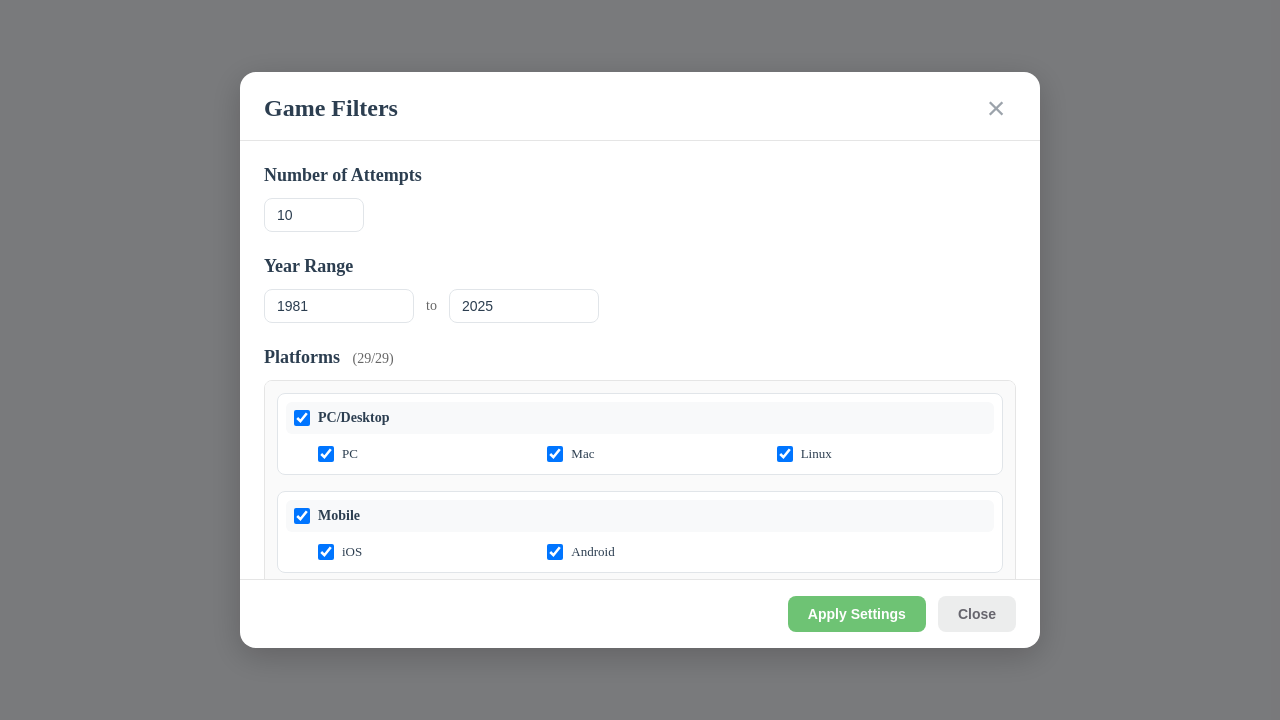
Test: Settings.svelte › attempts input clamps below 1 to 1 and above 999 to 999
Replace the text in the number field with class "attempts-input" with "0" at x=314, y=215, box [264,198,364,232]
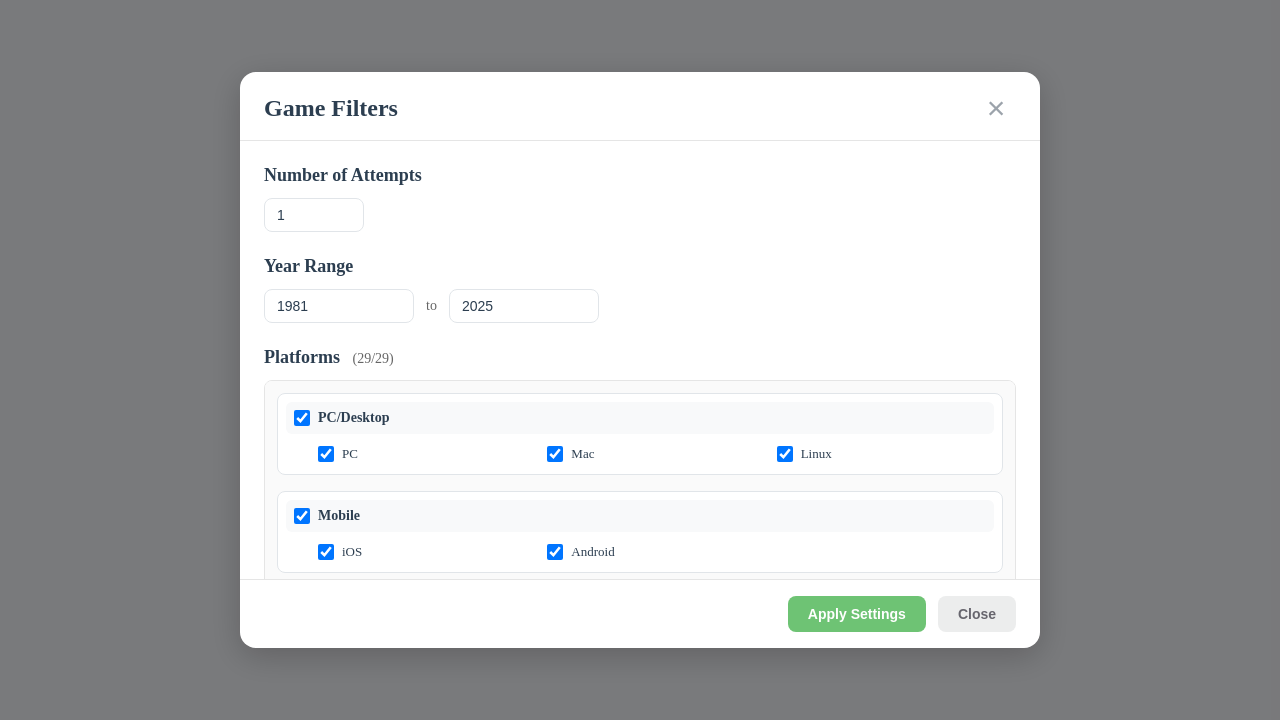
Expected: the number field with class "attempts-input" holds "1"
Replace the text in the number field with class "attempts-input" with "1000" at x=314, y=215, box [264,198,364,232]
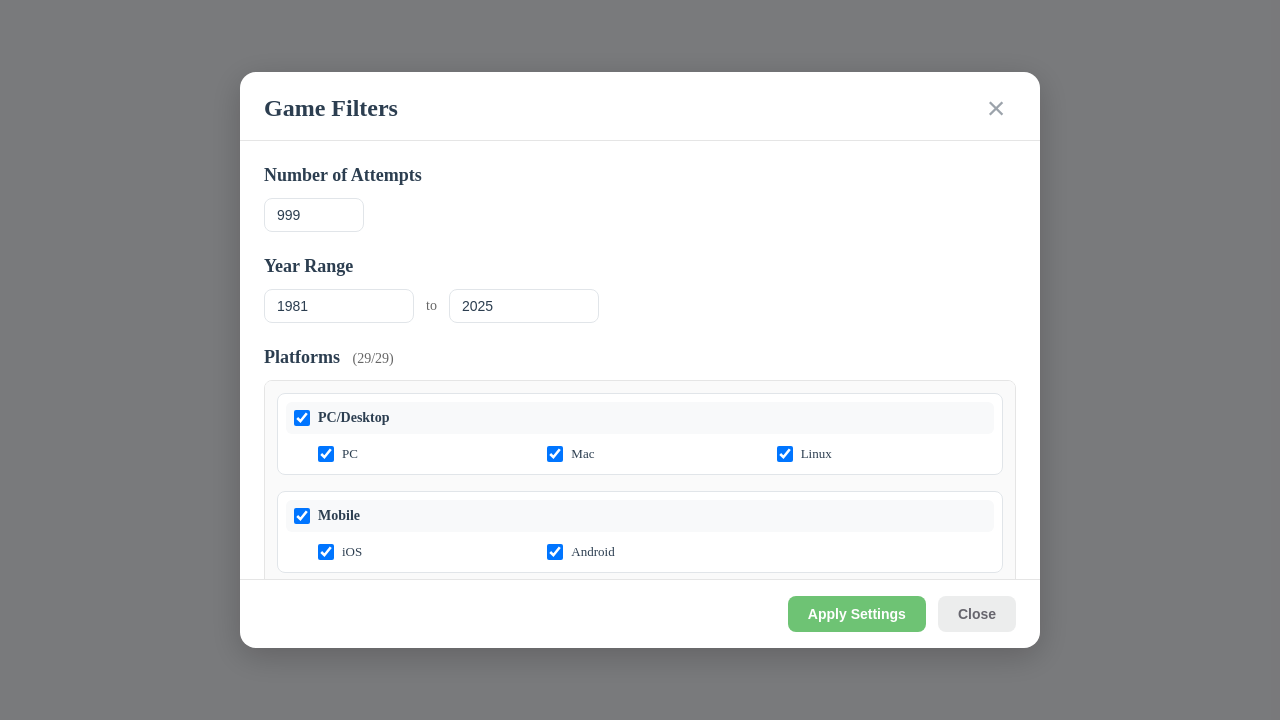
Expected: the number field with class "attempts-input" holds "999", [264,198,364,232]
